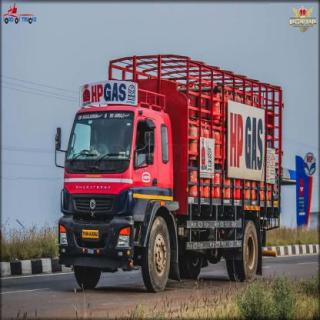Normal_vehicle: (54, 53, 283, 288)
